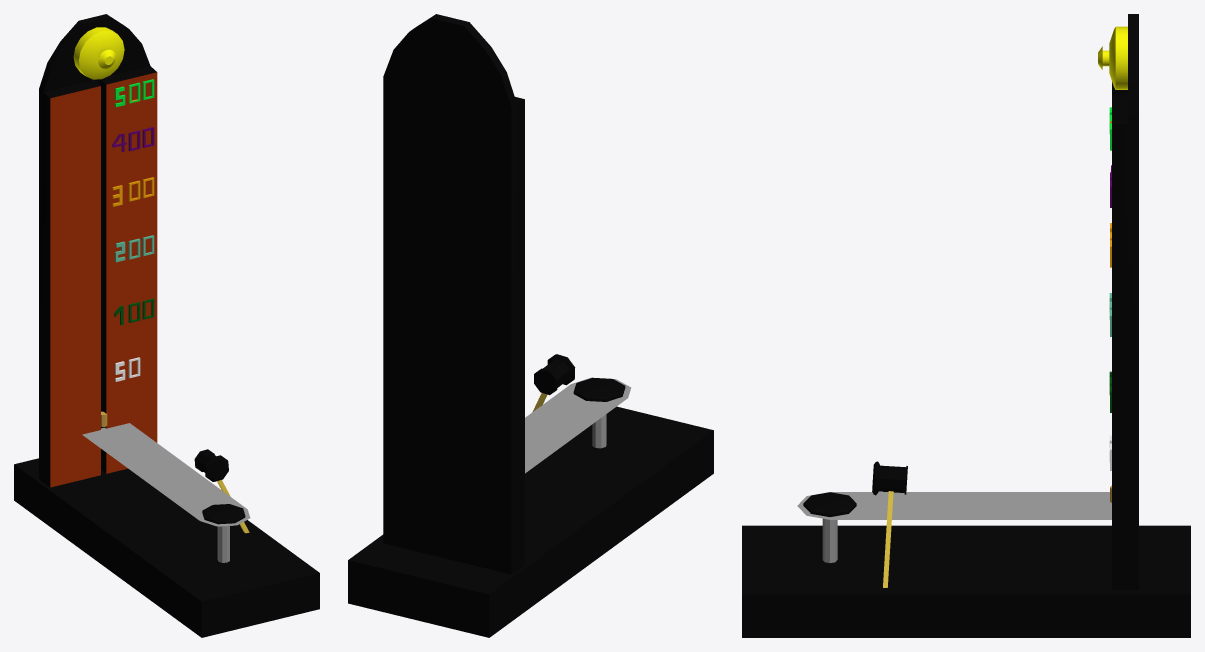
Rendered from Brinquedomarreta.fbx.
The picture shows the model from 3 angles, left to right: view 1: azimuth 30°, elevation 25°; view 2: azimuth 150°, elevation 25°; view 3: azimuth 270°, elevation 25°; orthographic projection. The views are drawn at different scales.
Visible parts, largest first — view 1: TesteForca, Pontuacao, Marretao; view 2: TesteForca, Marretao; view 3: TesteForca, Marretao.
Boxes of the visible parts, box(x1,y1,x2,y2) form: TesteForca: box(14, 14, 319, 637); Pontuacao: box(112, 79, 154, 381); Marretao: box(194, 449, 249, 533); TesteForca: box(348, 14, 713, 637); Marretao: box(532, 354, 575, 411); TesteForca: box(742, 14, 1190, 637); Marretao: box(872, 461, 907, 587).
Bounding box in the file's own units: 104 × 409 × 287.
Materials: 1 (1 with a texture image).
